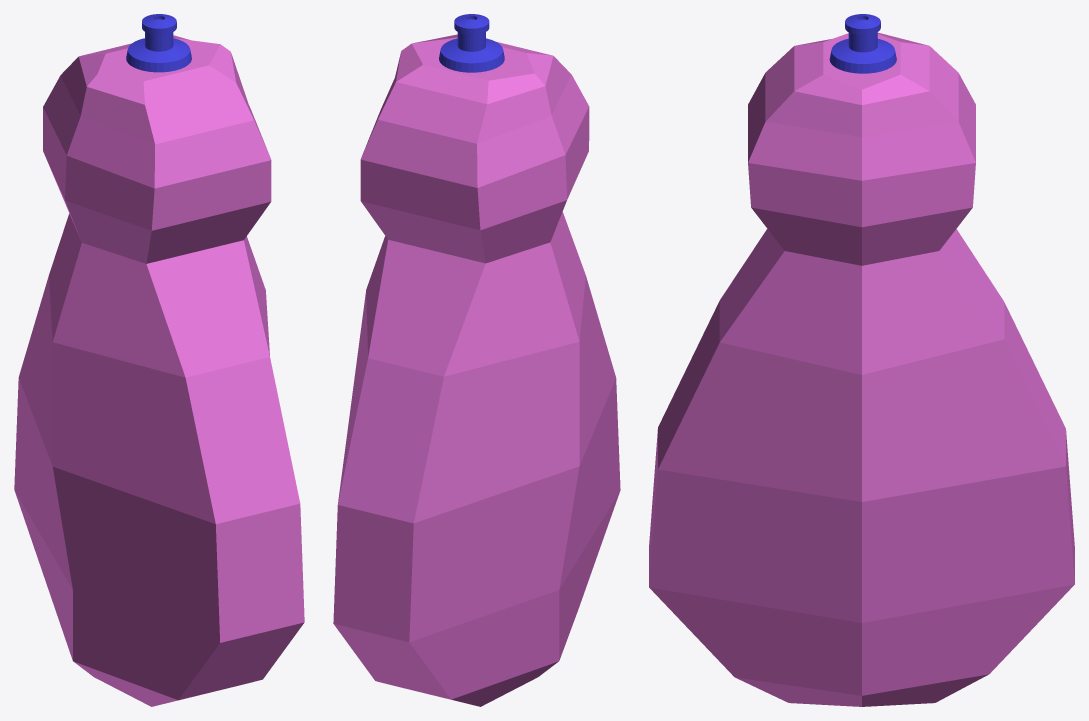
Rendered from bottle.fbx.
The picture shows the model from 3 angles, left to right: view 1: azimuth 30°, elevation 25°; view 2: azimuth 150°, elevation 25°; view 3: azimuth 270°, elevation 25°; orthographic projection. The views are drawn at different scales.
Parts seen in each view (by area): view 1: bottle, nozzle; view 2: bottle, nozzle; view 3: bottle, nozzle.
Boxes of the visible parts, x1,y1,x2,y2 form: bottle: [14, 35, 304, 706]; nozzle: [126, 14, 191, 72]; bottle: [333, 34, 620, 706]; nozzle: [439, 14, 504, 72]; bottle: [649, 32, 1074, 706]; nozzle: [829, 14, 896, 73].
Bounding box in the file's own units: 43.28 × 126 × 73.3.
